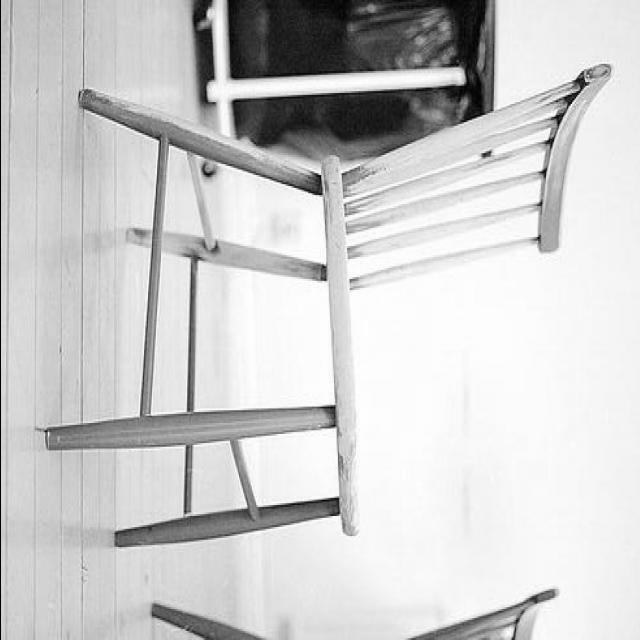chair: (44, 53, 612, 550)
